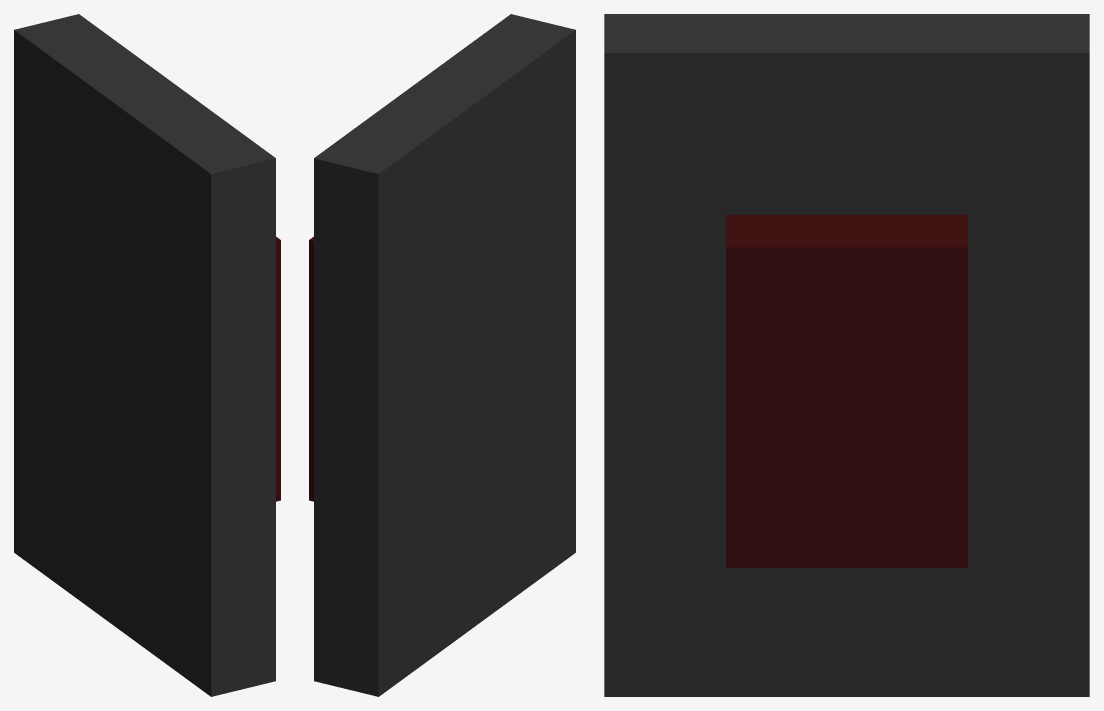
The model's file is switch.fbx.
The picture shows the model from 3 angles, left to right: view 1: azimuth 30°, elevation 25°; view 2: azimuth 150°, elevation 25°; view 3: azimuth 270°, elevation 25°; orthographic projection. The views are drawn at different scales.
Parts seen in each view (by area): view 1: Cube, button; view 2: Cube, button; view 3: Cube, button.
Boxes of the visible parts, x1=… form: Cube: x1=14, y1=14, x2=275, y2=696; button: x1=276, y1=236, x2=280, y2=501; Cube: x1=314, y1=14, x2=575, y2=696; button: x1=309, y1=236, x2=313, y2=501; Cube: x1=604, y1=14, x2=1089, y2=696; button: x1=726, y1=215, x2=967, y2=567.
Bounding box in the file's own units: 114 × 167 × 39.92.
